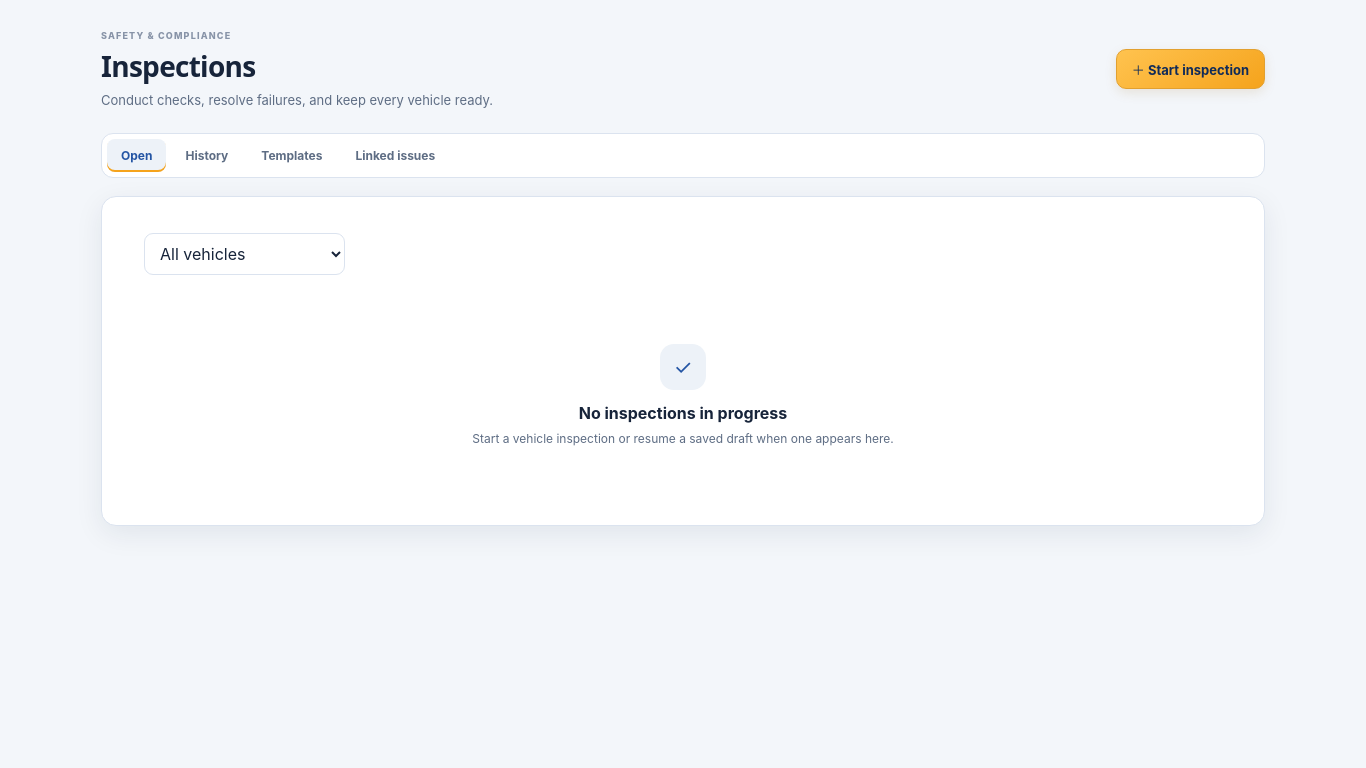
Test: Inspections workspace › starts, saves, resumes, validates, and submits an inspection
This screenshot has width=1366, height=768.
Click the button "＋ Start inspection" at (1190, 69), box [1116,49,1265,89]
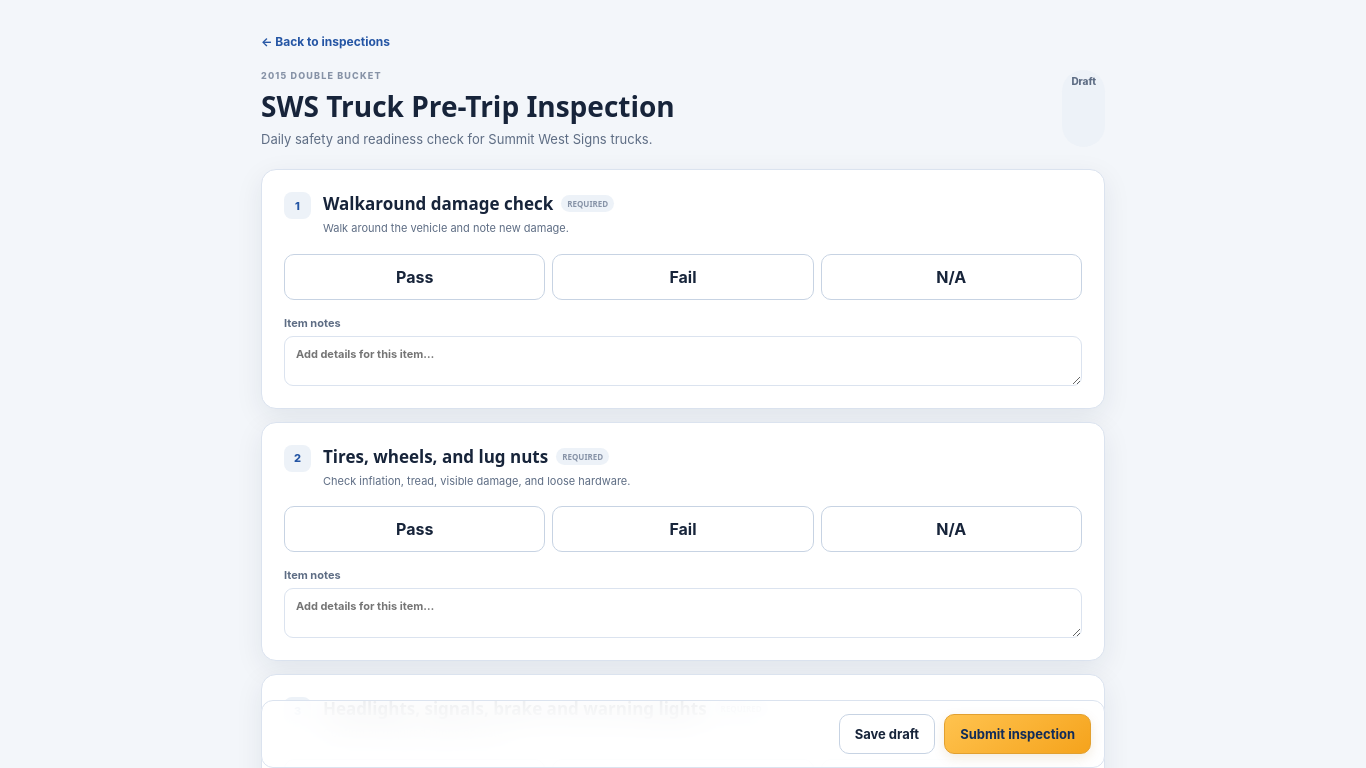
Expected: the heading "SWS Truck Pre-Trip Inspection" is shown, [261,87,675,125]
Click the button "Save draft" at (887, 734), box [839,714,935,754]
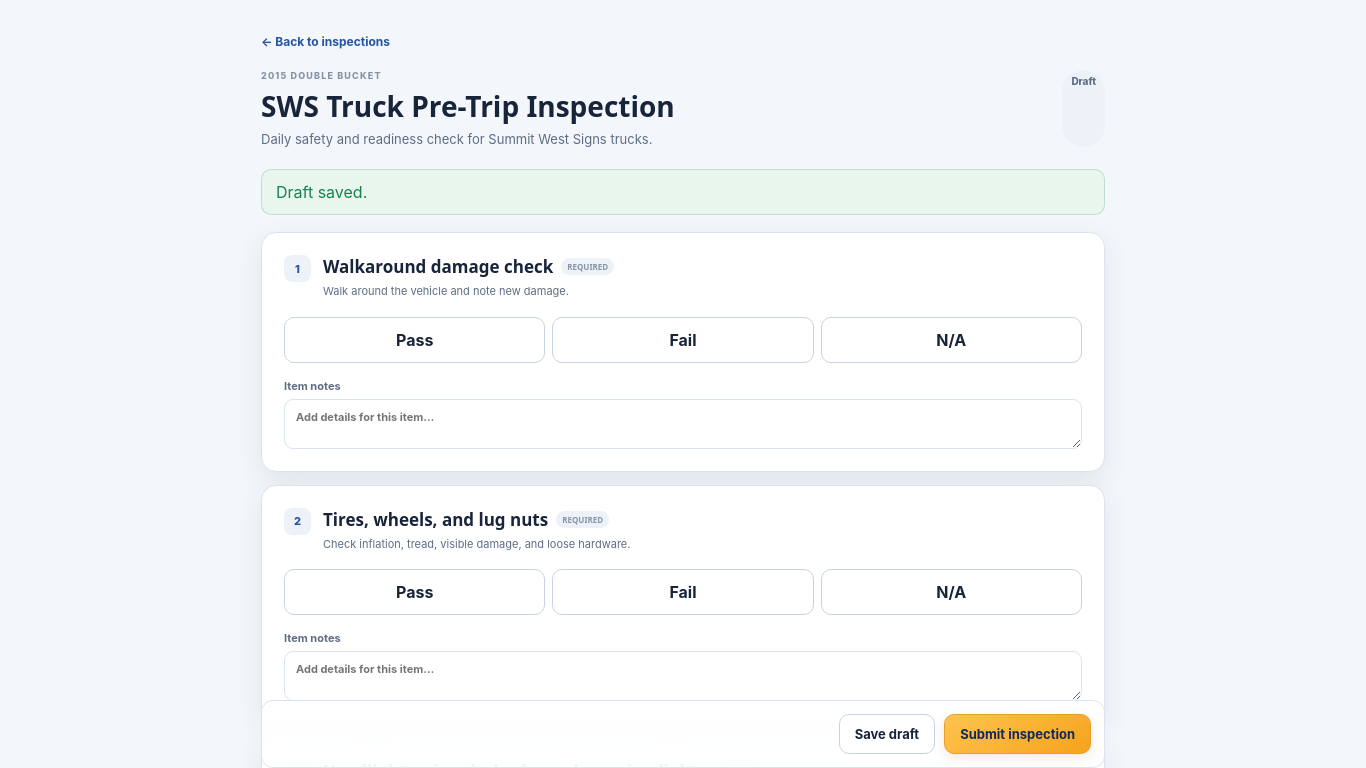
Expected: the text "Draft saved." is shown, [261,169,1105,215]
Click the button "Submit inspection" at (1018, 734), box [944,714,1091,754]
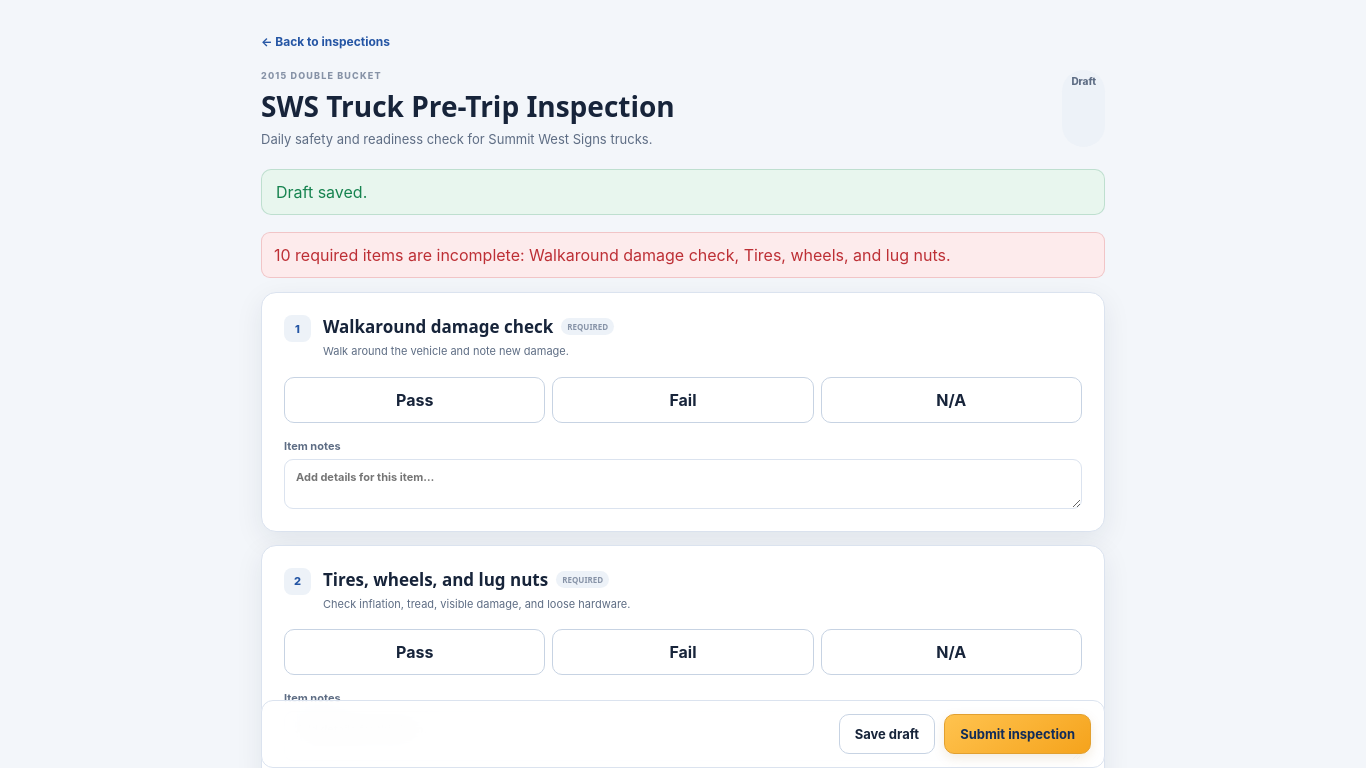
Expected: the 2nd message shows "required item", [274,245,950,265]
